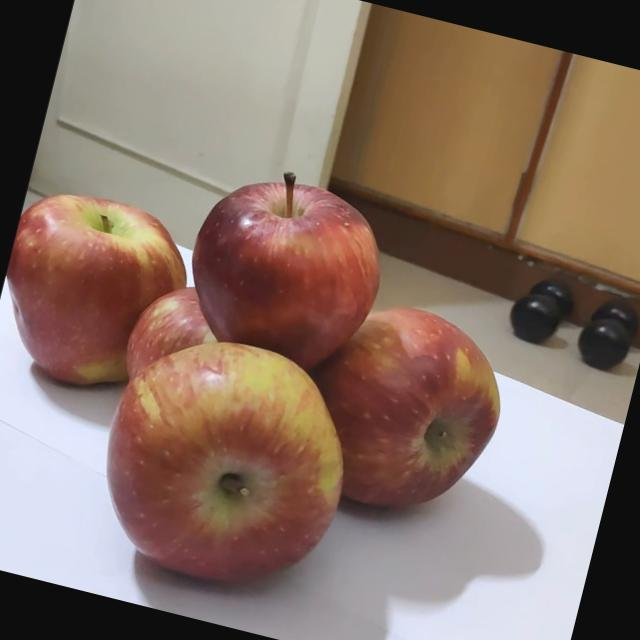apple: (56, 302, 370, 618), (284, 286, 528, 542), (158, 144, 402, 397), (0, 164, 215, 407)
